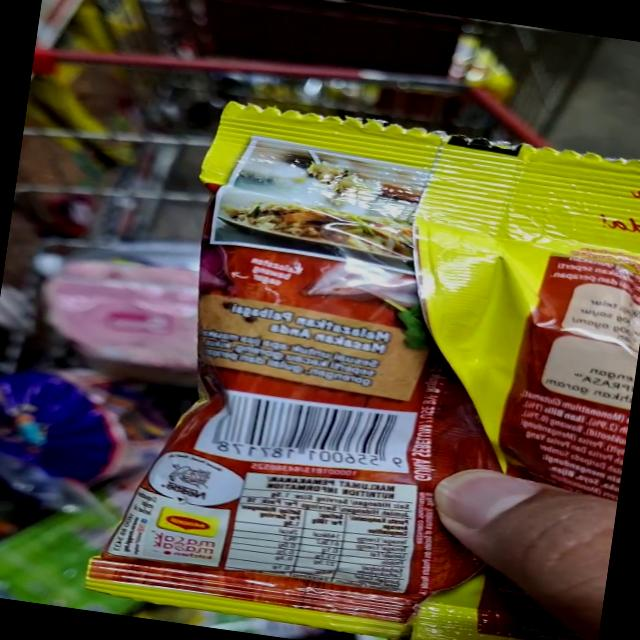Maggi Cukup Rasa: (158, 89, 640, 479), (67, 366, 626, 640)
